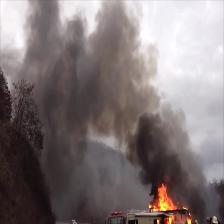fire: (154, 181, 171, 212)
smoke: (19, 33, 149, 120), (138, 127, 181, 177)
